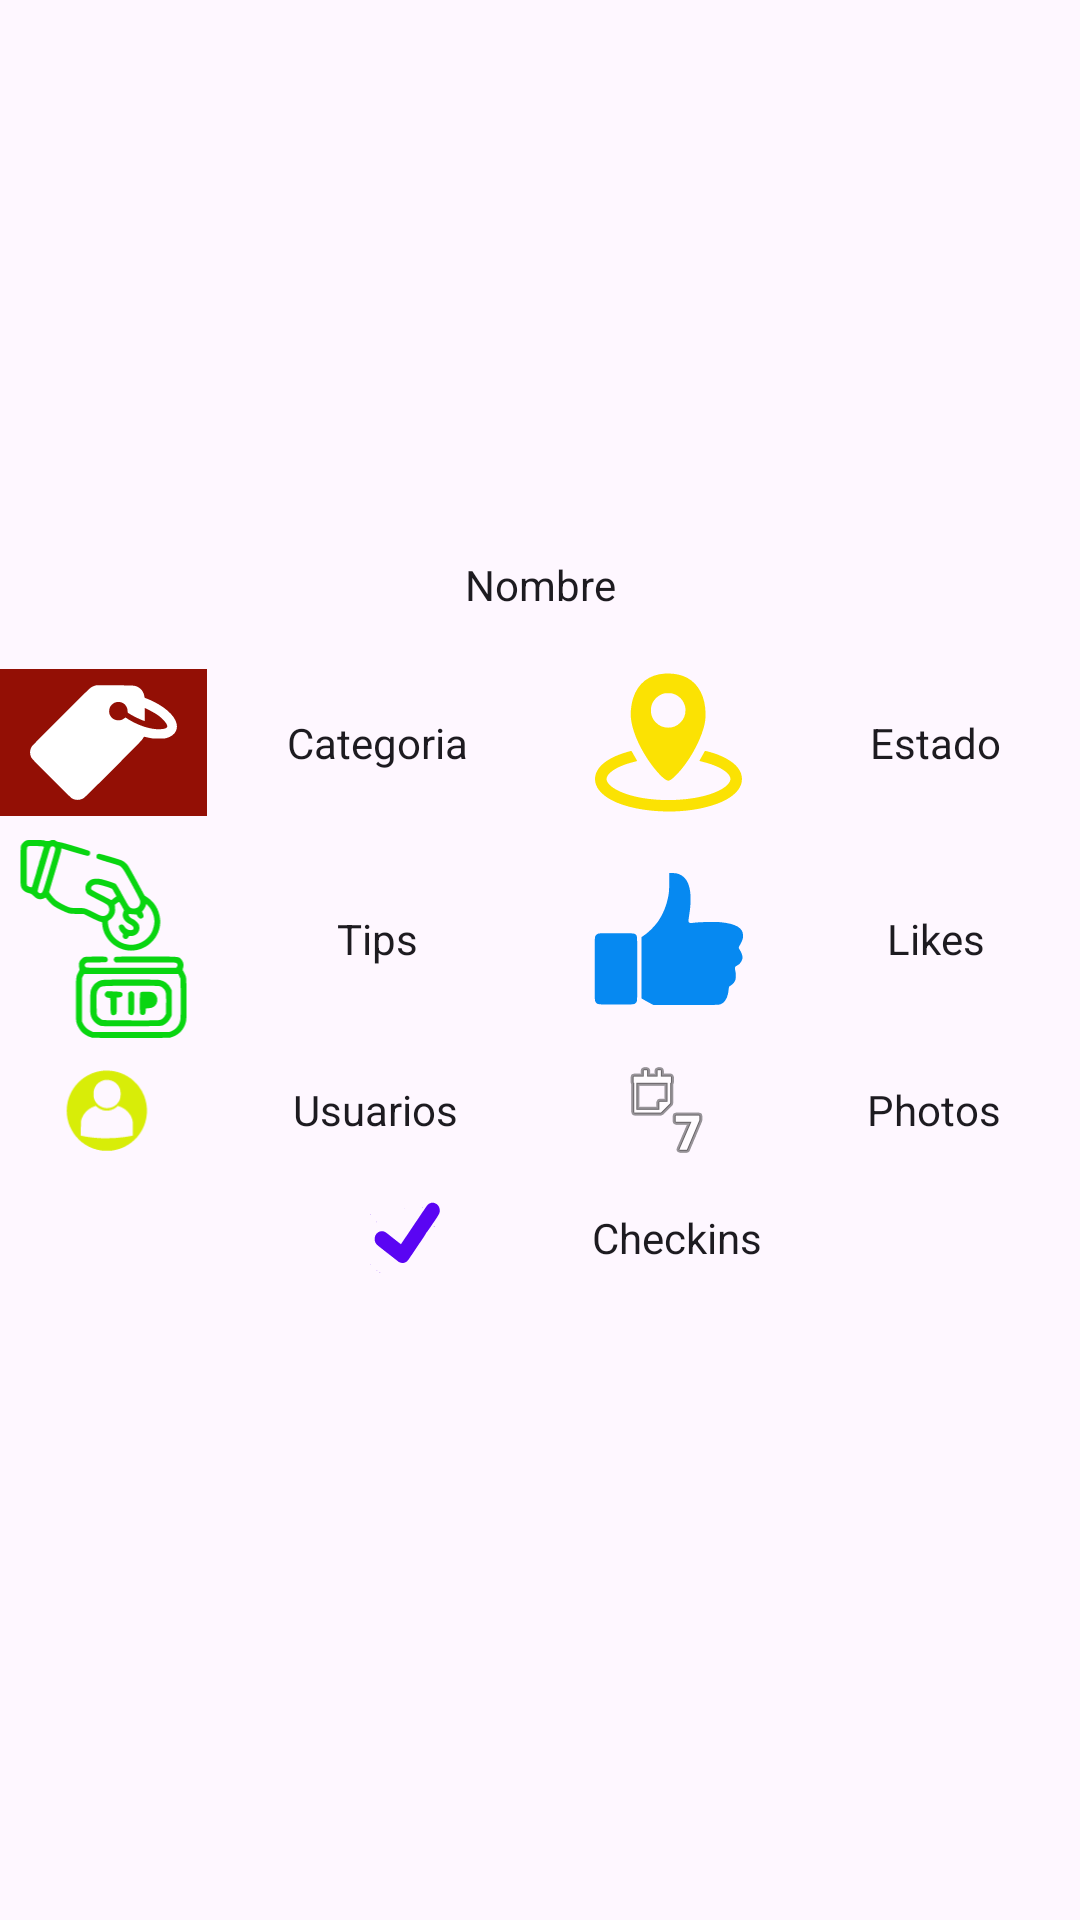

Named icons in this screenshot (1080×1920) and their bounding boxes, (x1, y1, x2, y2):
etiquetas: (0, 669, 207, 816)
lugares: (595, 673, 742, 812)
week: (630, 1067, 703, 1153)
